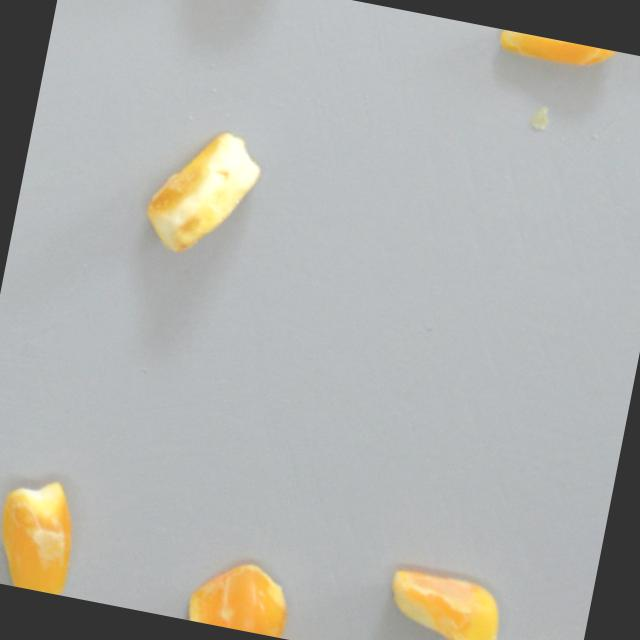dañado: (134, 116, 276, 271), (0, 466, 96, 598), (370, 557, 516, 640), (176, 548, 304, 640), (490, 28, 626, 80)
